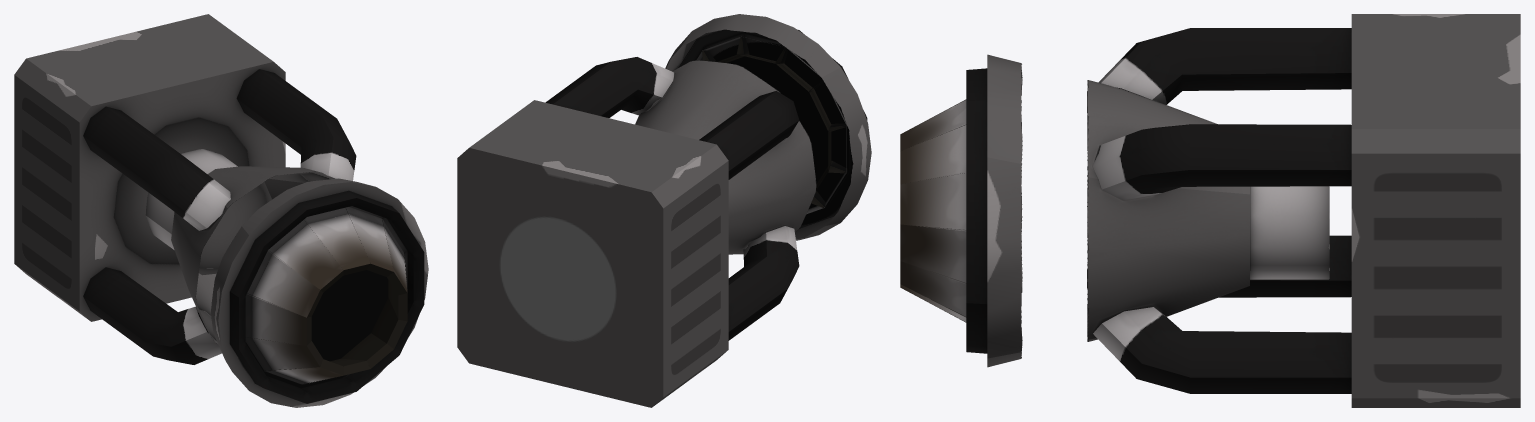
File: obj_interactive_thruster_01_pose0.fbx
3 views of the same model, side by side, from view 1: azimuth 30°, elevation 25°; view 2: azimuth 150°, elevation 25°; view 3: azimuth 270°, elevation 25° (orthographic). The views are drawn at different scales.
Visible parts, largest first — view 1: obj_interactive_thruster_01_pose0; view 2: obj_interactive_thruster_01_pose0; view 3: obj_interactive_thruster_01_pose0.
Boxes of the visible parts, x1,y1,x2,y2 form: obj_interactive_thruster_01_pose0: (14, 14, 428, 407); obj_interactive_thruster_01_pose0: (457, 14, 871, 407); obj_interactive_thruster_01_pose0: (900, 14, 1520, 407).
Size of the model in its own units: 2.04 by 2.04 by 4.03.
